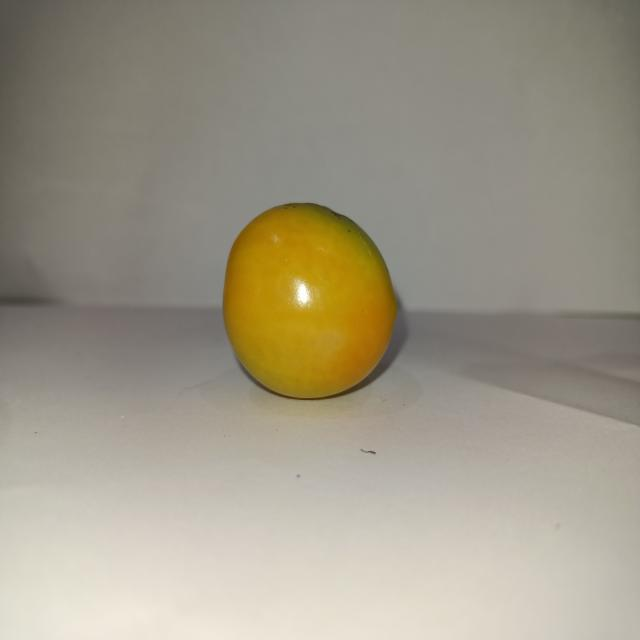Red: (221, 200, 398, 400)
